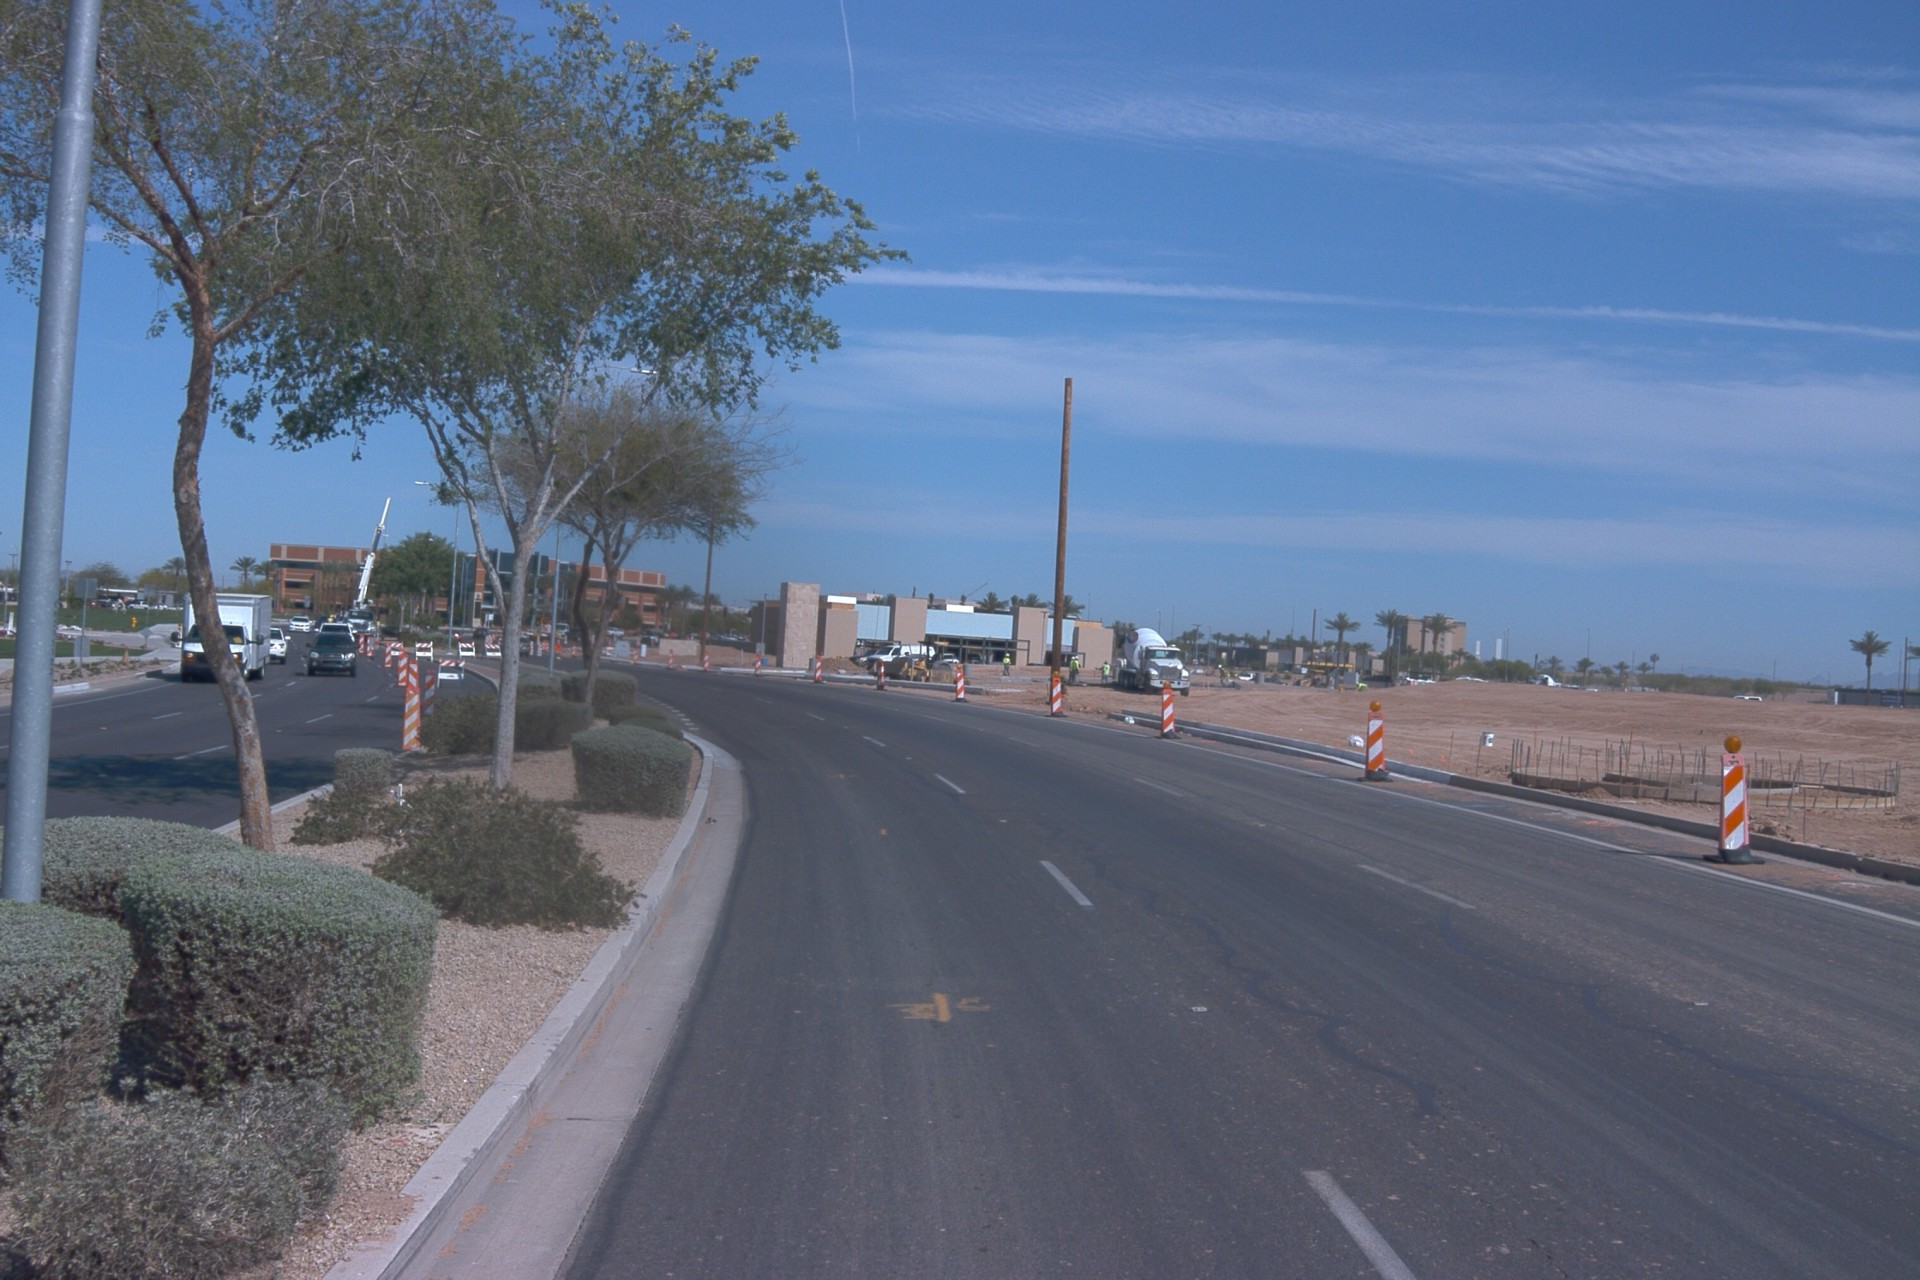TYPE_PEDESTRIAN: (1100, 660, 1112, 689), (1071, 655, 1082, 685), (1216, 665, 1227, 688), (1068, 656, 1077, 684), (1002, 653, 1011, 678), (373, 617, 381, 637)
TYPE_VEHICLE: (323, 492, 400, 653), (170, 593, 276, 685), (303, 632, 361, 678), (862, 644, 939, 667), (1294, 663, 1341, 691), (312, 620, 357, 646), (266, 625, 292, 663), (637, 626, 678, 650), (849, 646, 883, 672), (288, 615, 314, 633), (128, 598, 159, 612), (445, 627, 467, 646), (1456, 673, 1490, 685), (517, 636, 531, 657), (1733, 694, 1763, 703), (944, 652, 962, 667), (607, 625, 626, 639), (1236, 670, 1257, 681), (313, 618, 332, 630), (0, 590, 16, 604), (1116, 658, 1131, 672), (1061, 660, 1081, 669), (1026, 661, 1046, 668), (1095, 665, 1107, 671)
